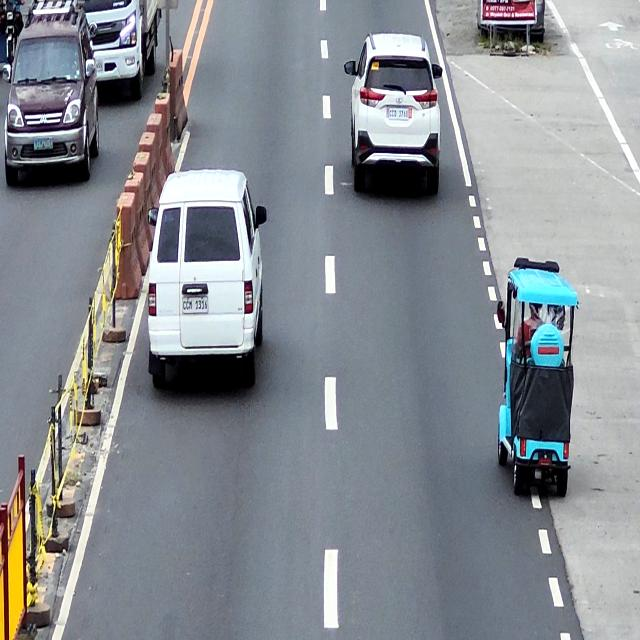Car: (147, 168, 269, 391), (3, 0, 102, 187), (344, 32, 443, 200)
E-bike: (496, 255, 576, 501)
License-Plate: (182, 296, 209, 314), (388, 107, 408, 121), (34, 139, 54, 149), (94, 61, 105, 72)
Truck: (79, 0, 162, 104)
